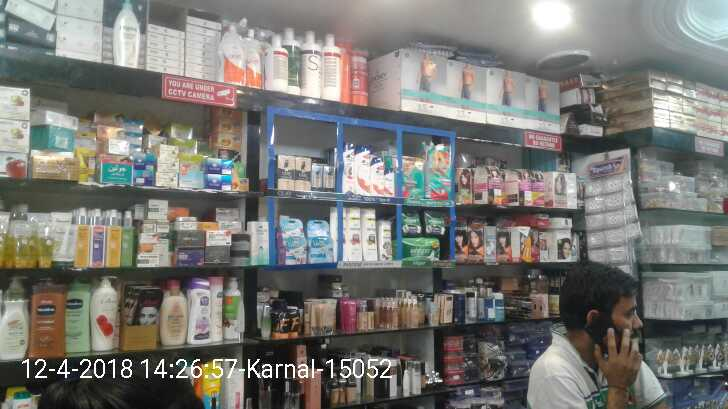venus: (280, 215, 307, 263), (307, 219, 331, 263)
